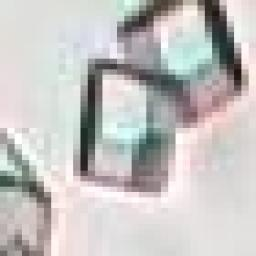crystals: (77, 55, 183, 198)
